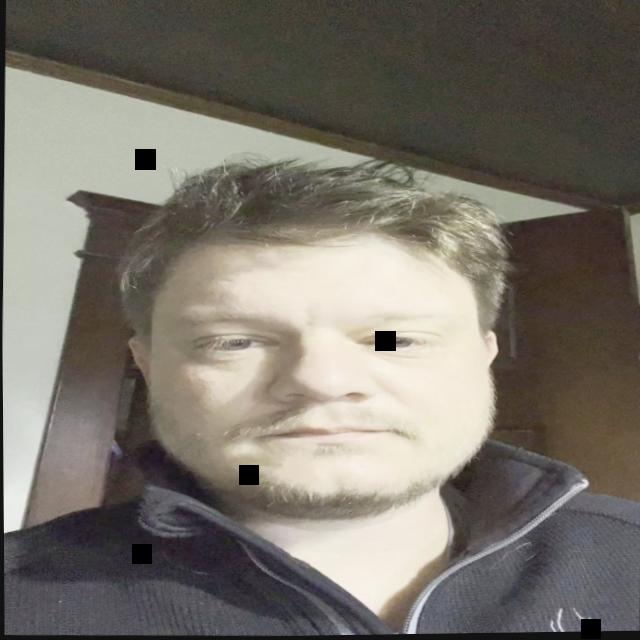NO-Mask: (115, 156, 519, 546)
